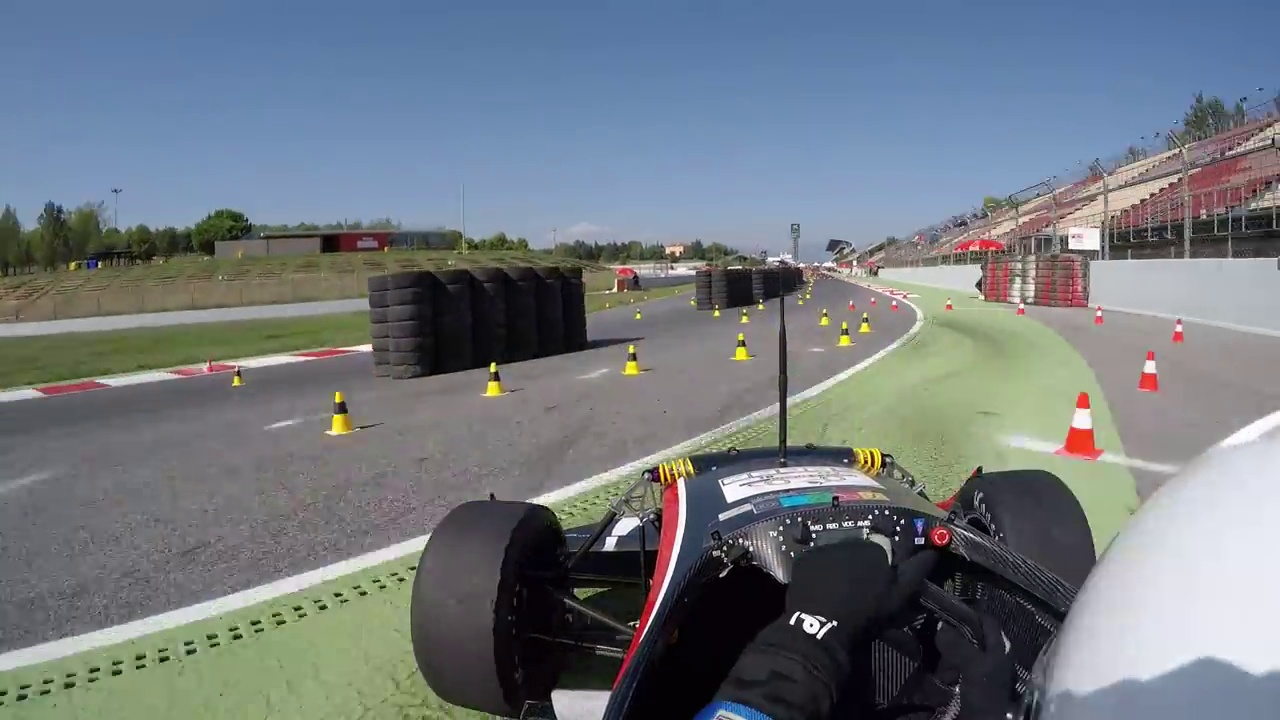Cone: (1061, 390, 1103, 457), (327, 388, 356, 436), (1136, 349, 1163, 393), (482, 361, 507, 399), (621, 341, 643, 379), (730, 329, 750, 363)
